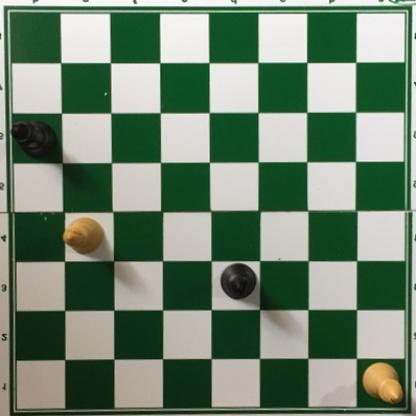black-bishop: (9, 119, 59, 161), (219, 262, 258, 301)
white-bishop: (363, 361, 405, 405), (63, 217, 105, 255)
